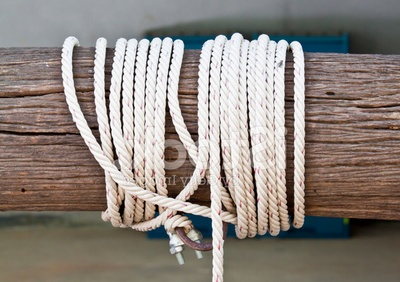9/可回收垃圾/绳子: (61, 32, 306, 282)
